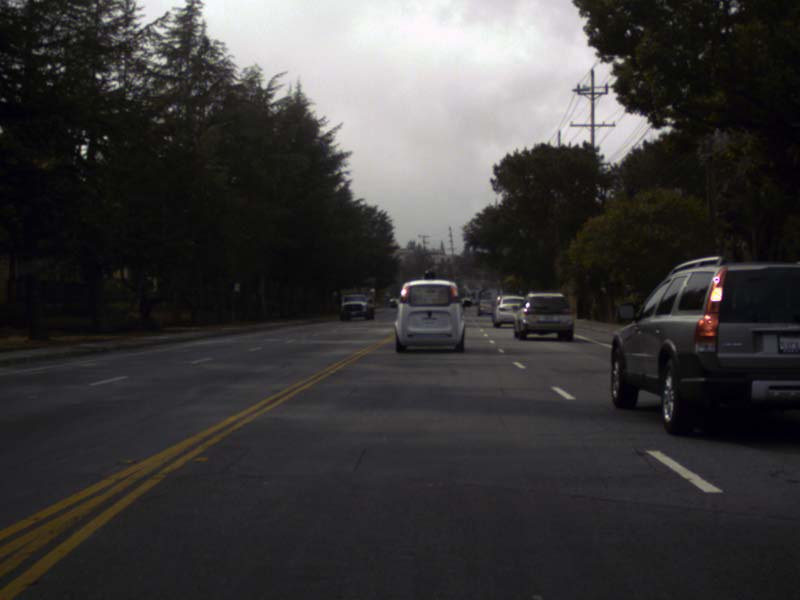Green: (456, 278, 458, 283)
